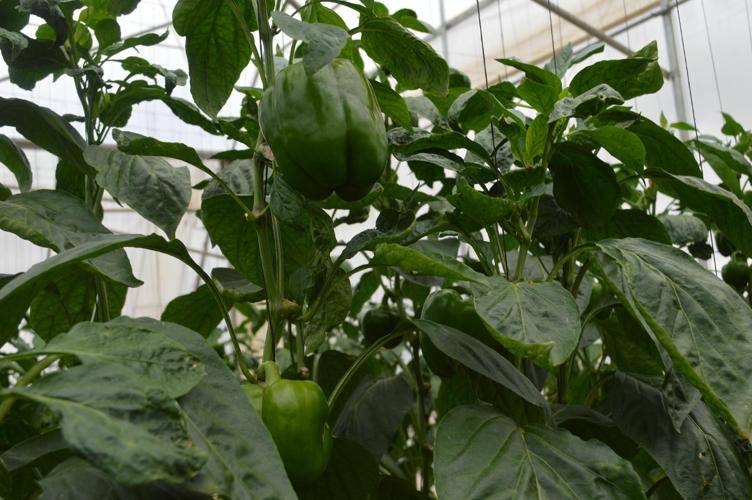BellPepper: (248, 55, 396, 208), (252, 371, 340, 489)
